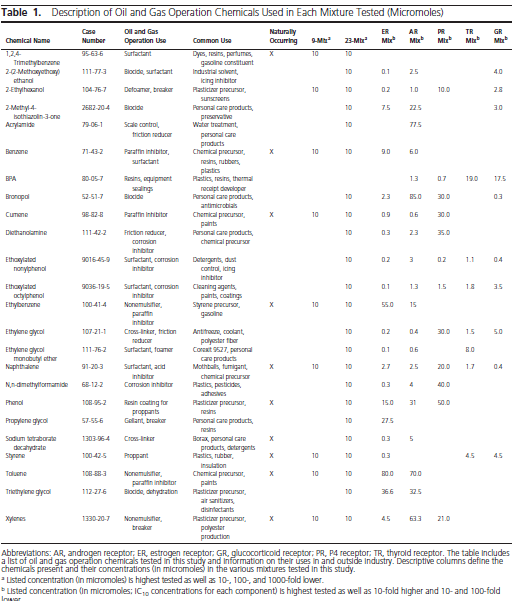fracking table: (2, 4, 515, 546)
